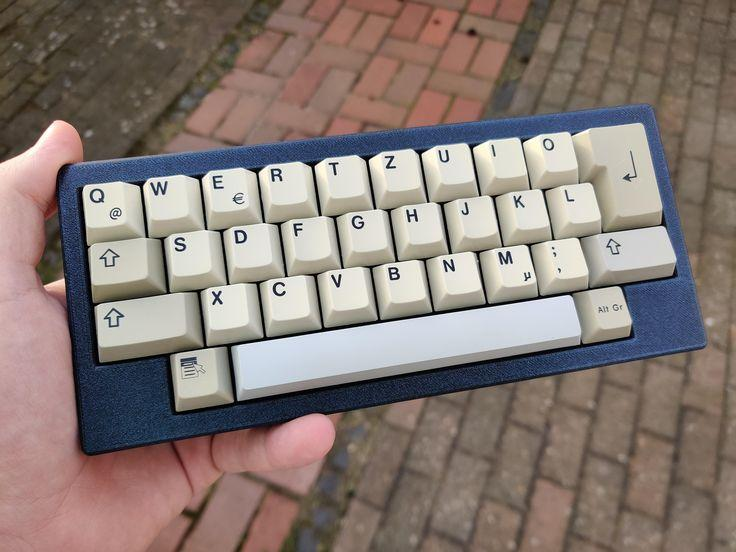keyboard: (55, 102, 707, 454)
